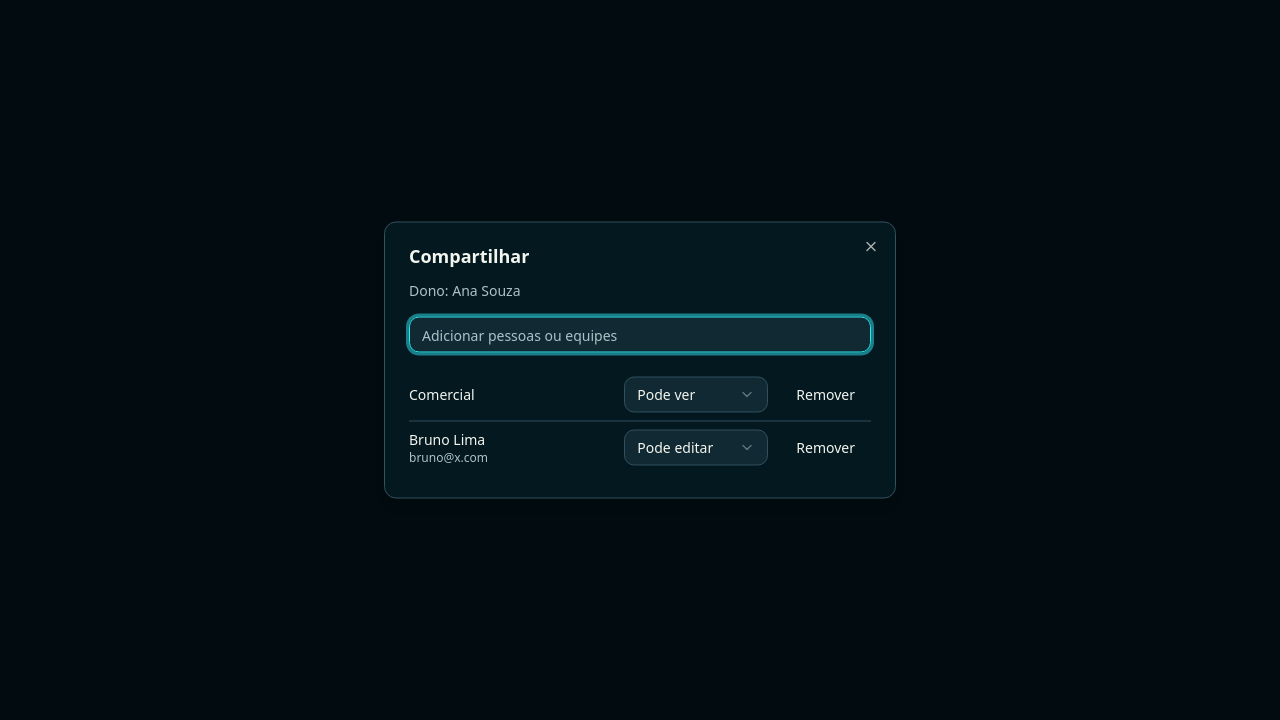
it: ShareDialog › SHARE-08 Remover tira a linha da lista
Click the button with aria-label "Remover Bruno Lima".
click(826, 448)  # box [780, 430, 871, 466]
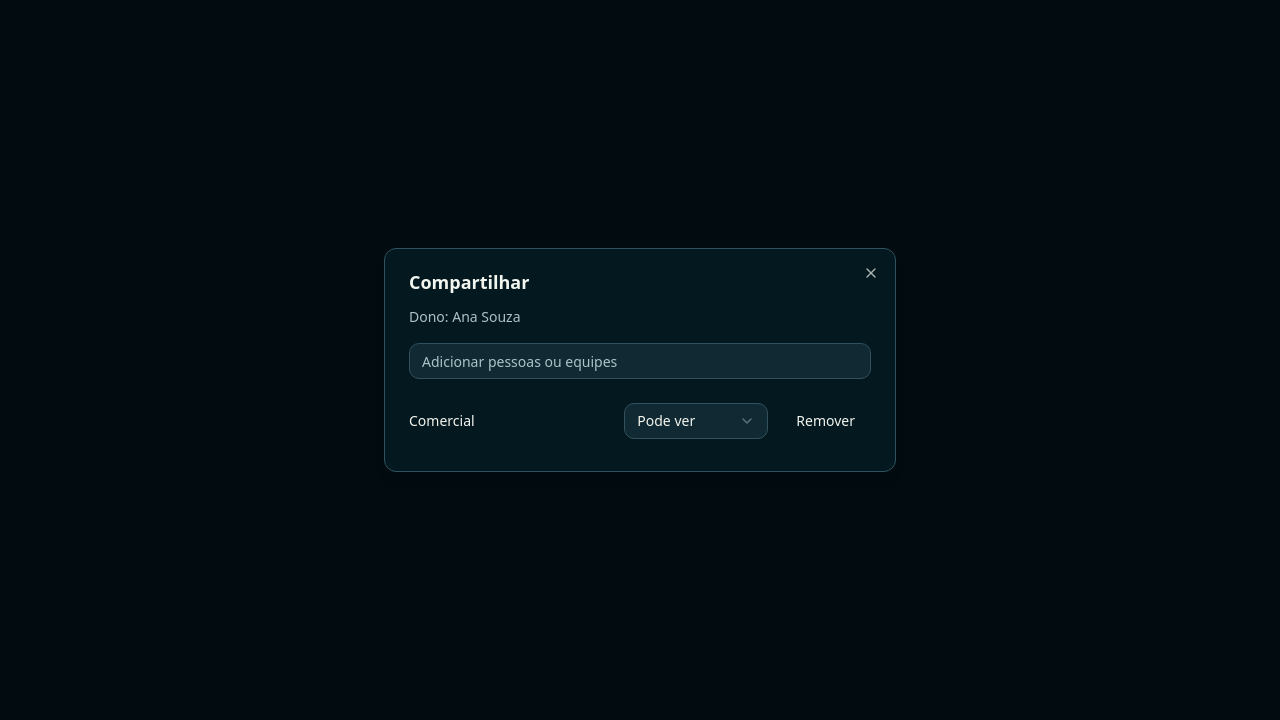
Expected: the text "Comercial" is shown, [409, 411, 475, 431]
Now the text "Bruno Lima" is gone
